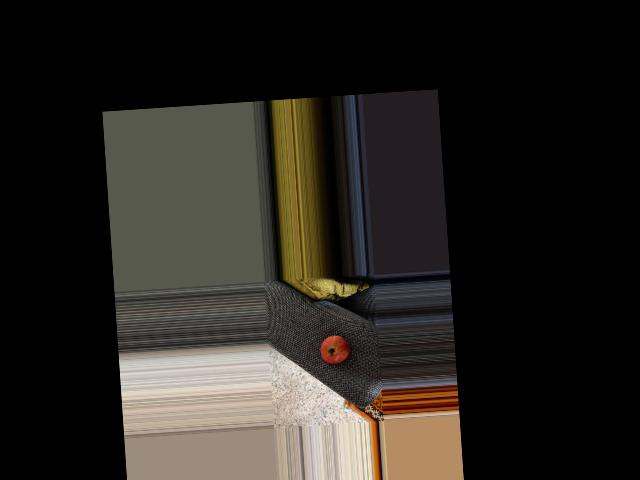apple: (321, 330, 354, 366)
